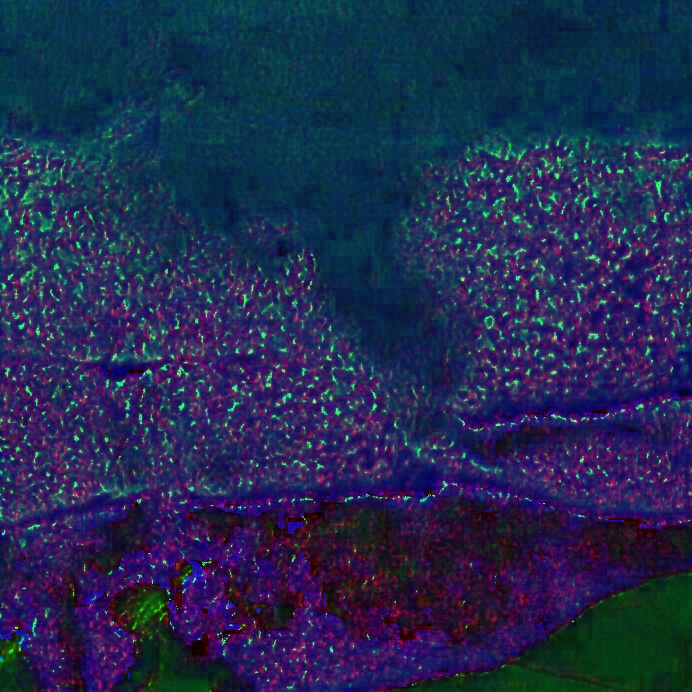rip_current: (240, 104, 531, 522)
